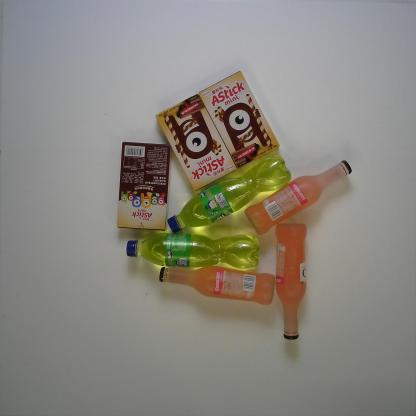Alcohol: (243, 159, 353, 236), (159, 263, 276, 306), (274, 222, 308, 341)
Dessert: (198, 69, 281, 170), (155, 93, 238, 192), (116, 140, 171, 232)
Drink: (167, 148, 292, 234), (125, 231, 261, 270)
